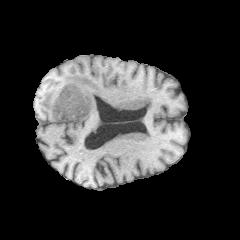glioma: (39, 75, 100, 122)
